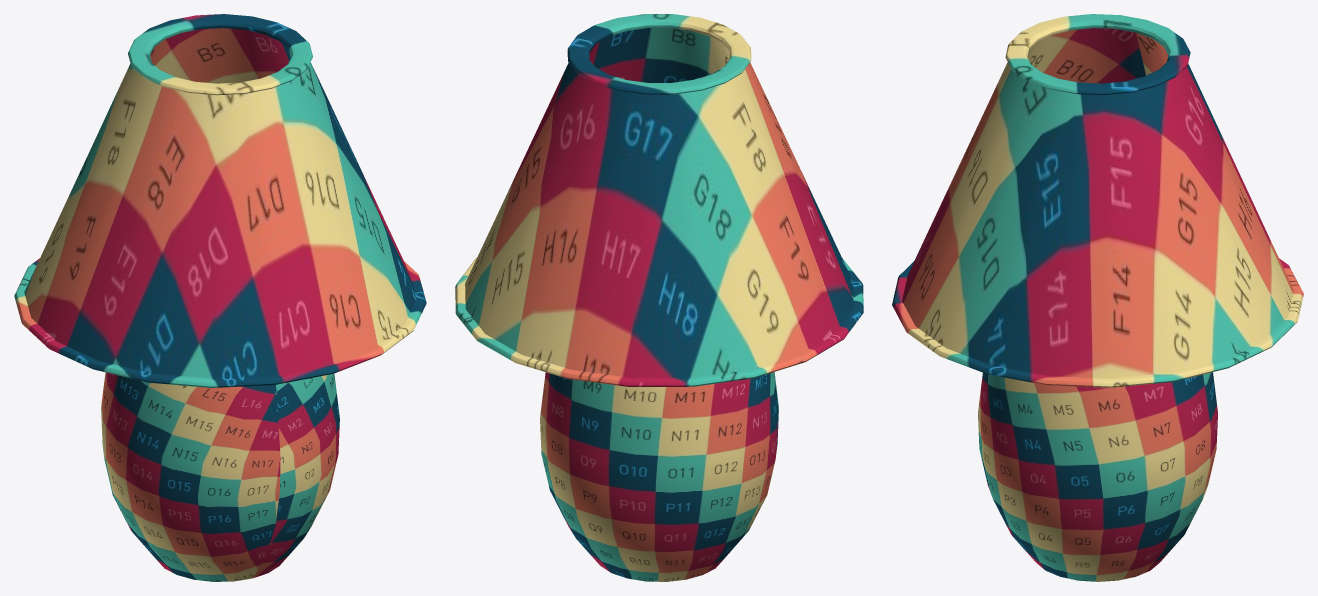
Rendered from lamp.fbx.
3 views of the same model, side by side, from view 1: azimuth 30°, elevation 25°; view 2: azimuth 150°, elevation 25°; view 3: azimuth 270°, elevation 25° (orthographic).
Parts seen in each view (by area): view 1: polySurface689; view 2: polySurface689; view 3: polySurface689.
Part boxes in pixels (left/top/right/bottom): polySurface689: left=14, top=14, right=426, bottom=581; polySurface689: left=455, top=14, right=863, bottom=581; polySurface689: left=892, top=14, right=1303, bottom=581.
Size of the model in its own units: 33.4 by 44.97 by 33.4.
